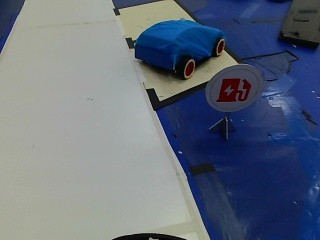battery: (208, 64, 259, 110)
car: (115, 18, 231, 77)
